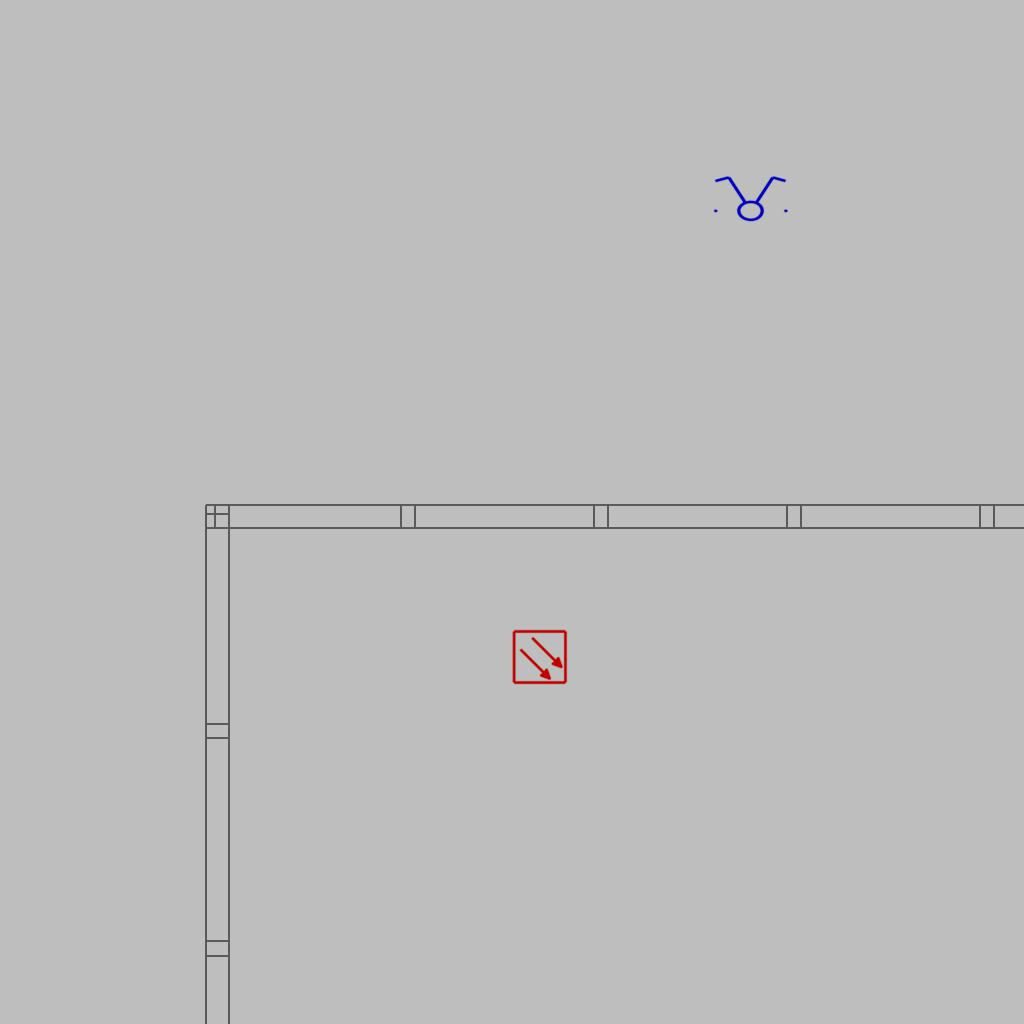RMO_Rauchmelder_optischer: (512, 629, 568, 685)
Serienschalter: (708, 174, 792, 222)
